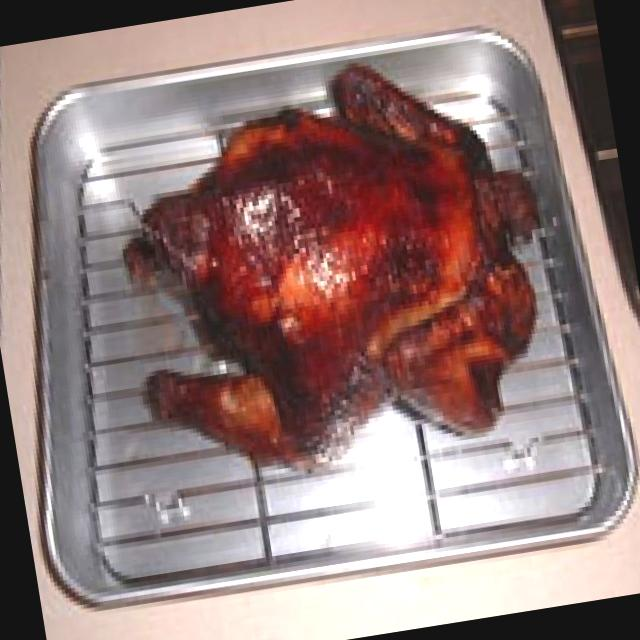Chicken: (82, 30, 570, 489)
